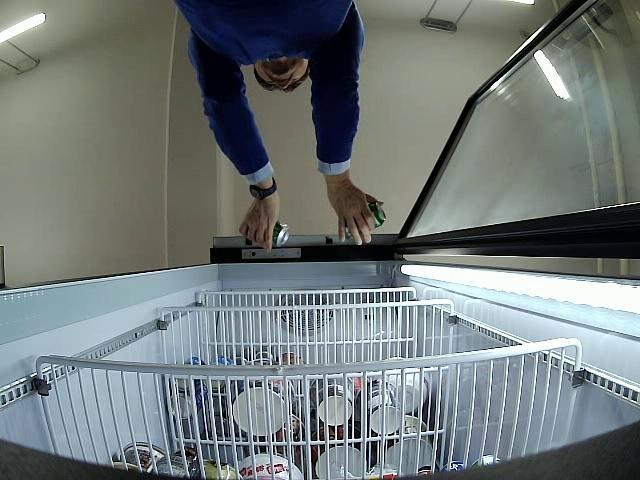12_chilsungCider: (346, 203, 388, 239), (272, 222, 290, 248)
